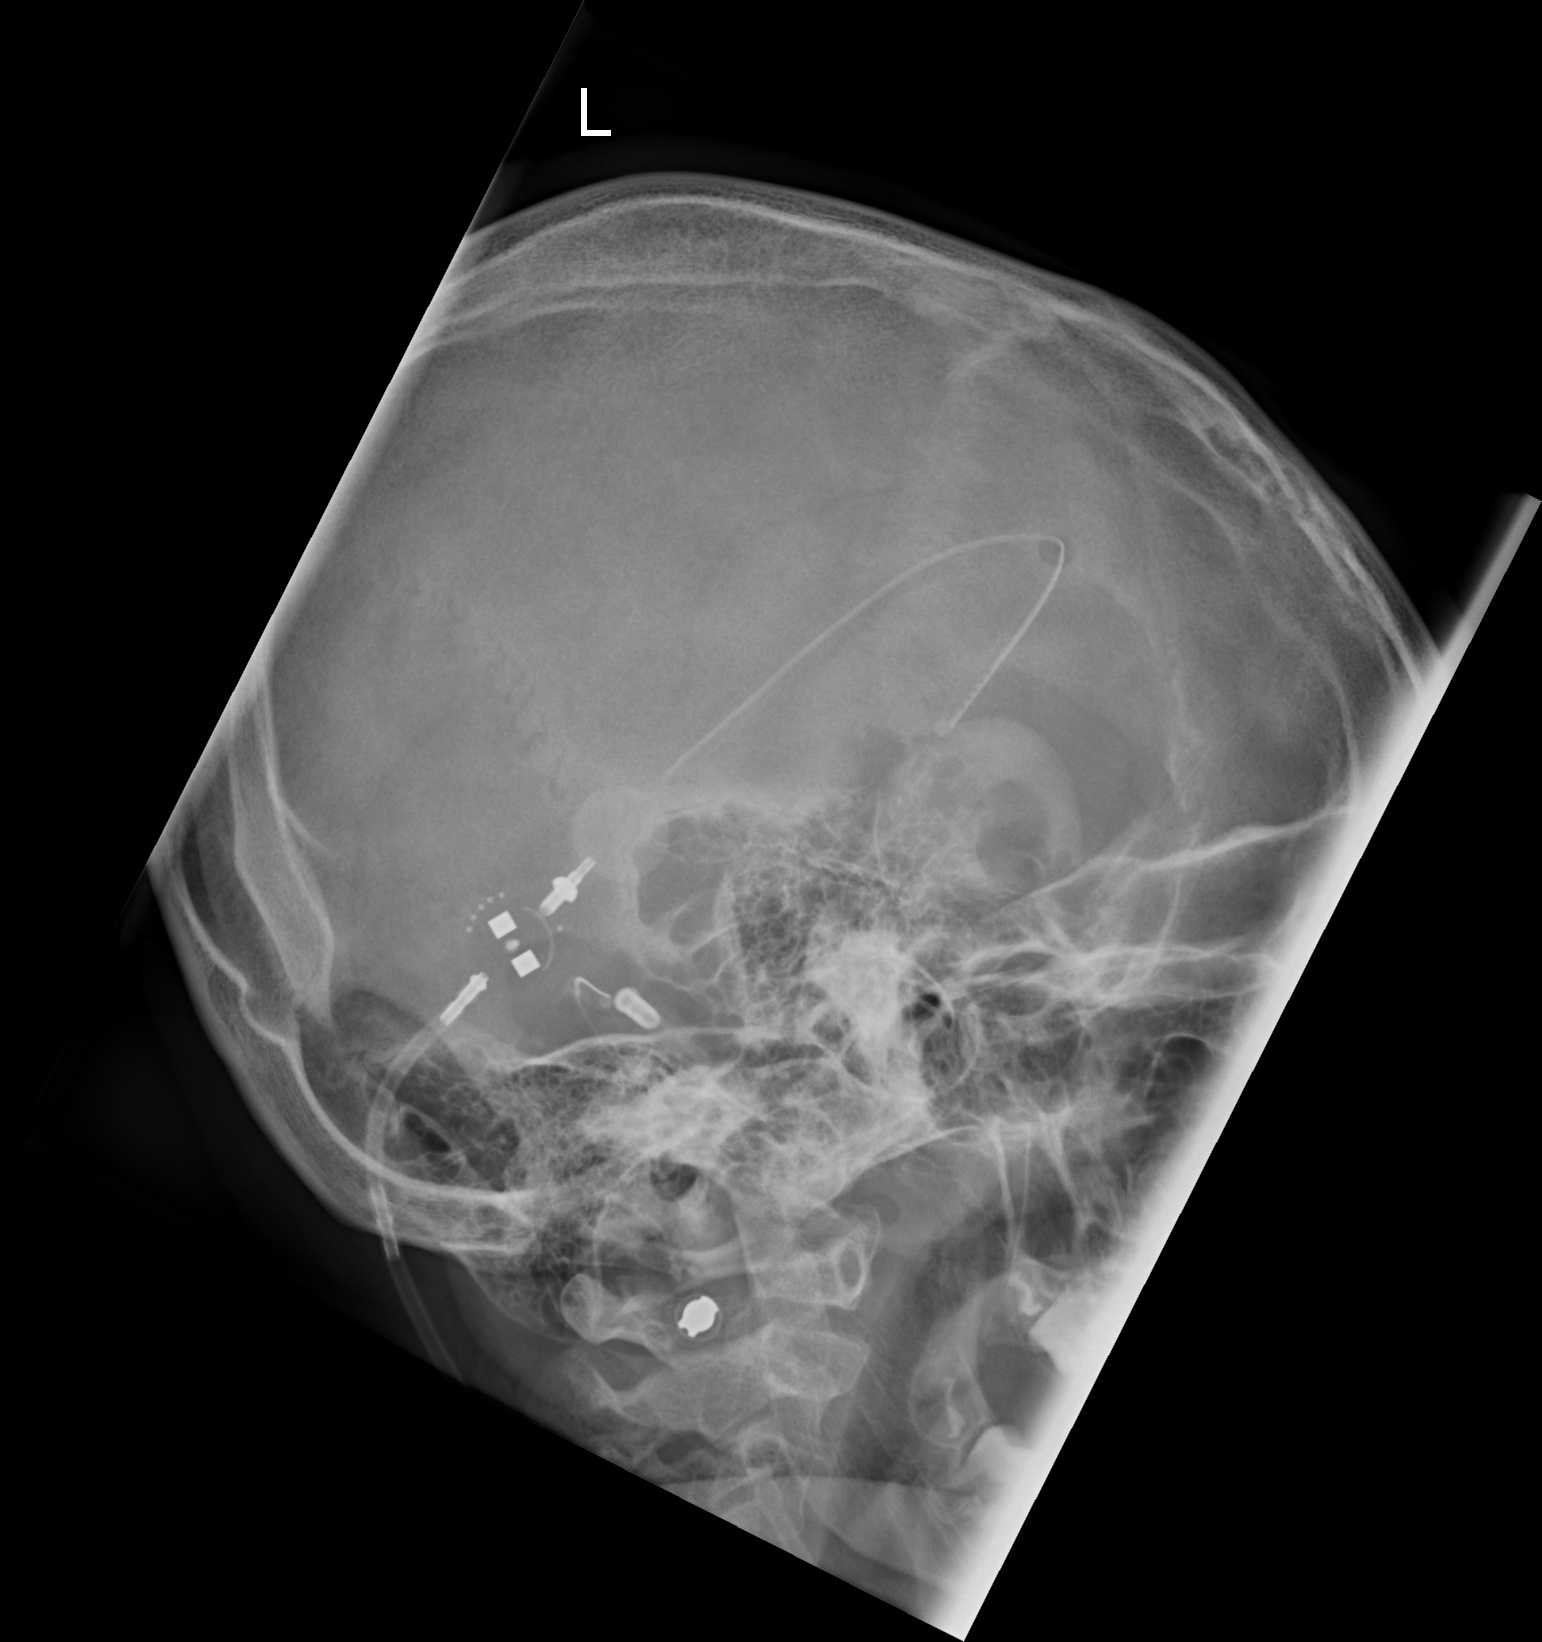Sophysa Polaris: (455, 883, 568, 1006)
